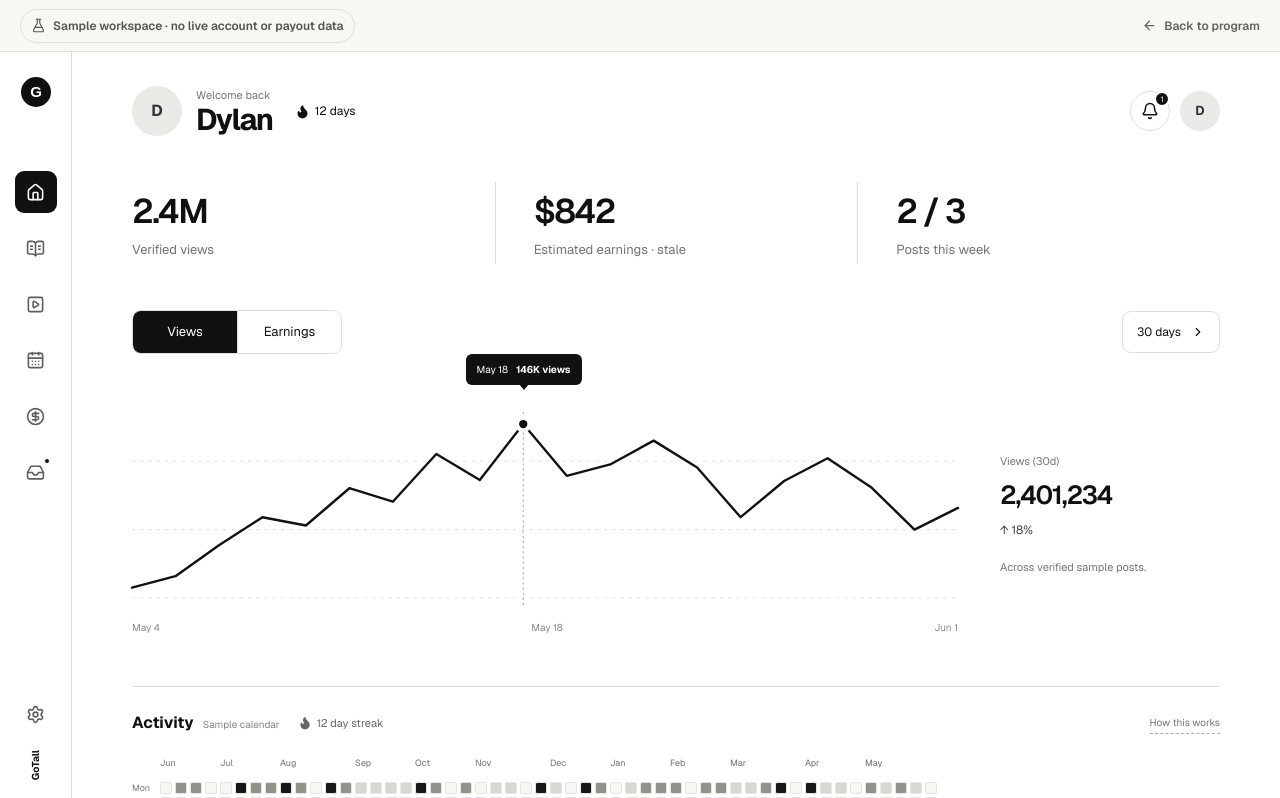
creator dashboard preview › switches the shared chart from views to earnings
Expected: the text "2,401,234" is shown, x1=1000 y1=476 x2=1112 y2=514
Click the tab "Earnings" at (289, 332), box x1=237 y1=311 x2=341 y2=353
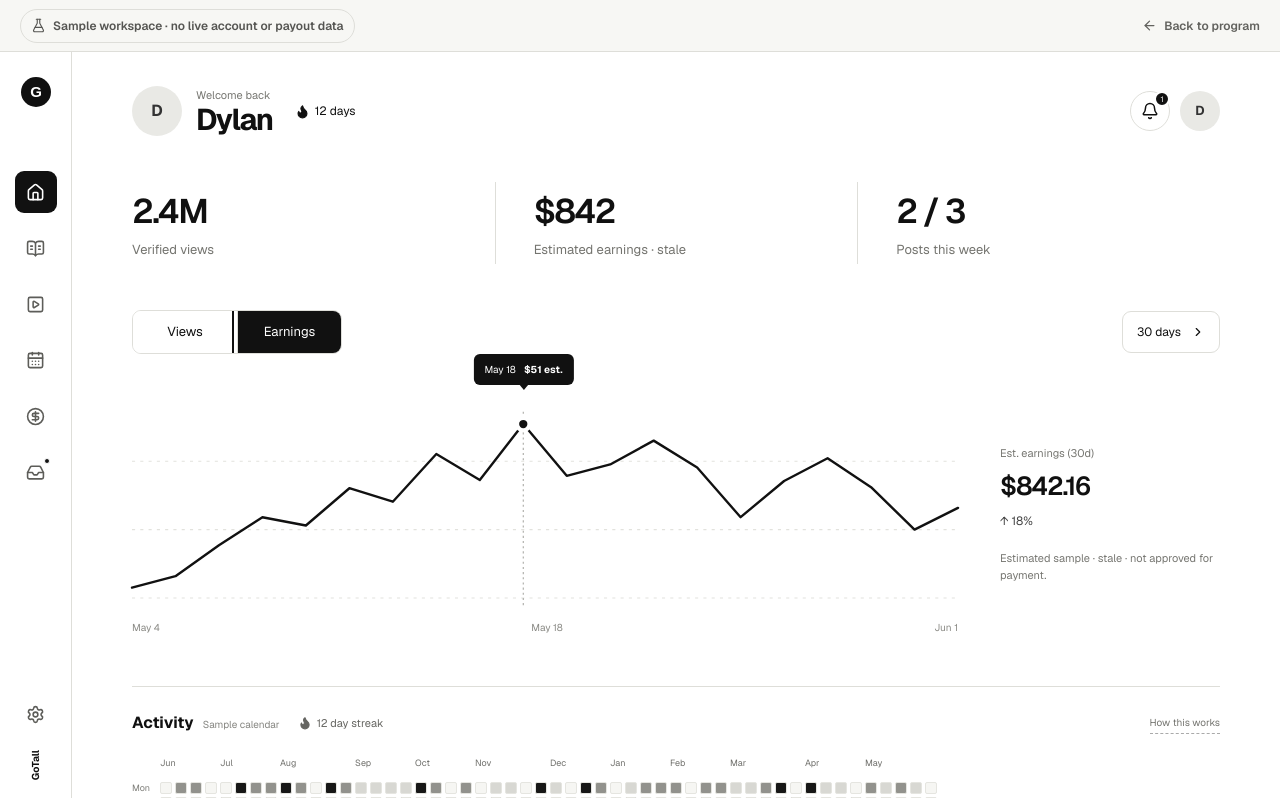
Now the text "$842.16" is shown, box x1=1000 y1=467 x2=1090 y2=506
Now the text "Estimated sample · stale · not approved for payment." is shown, box x1=1000 y1=550 x2=1220 y2=583
